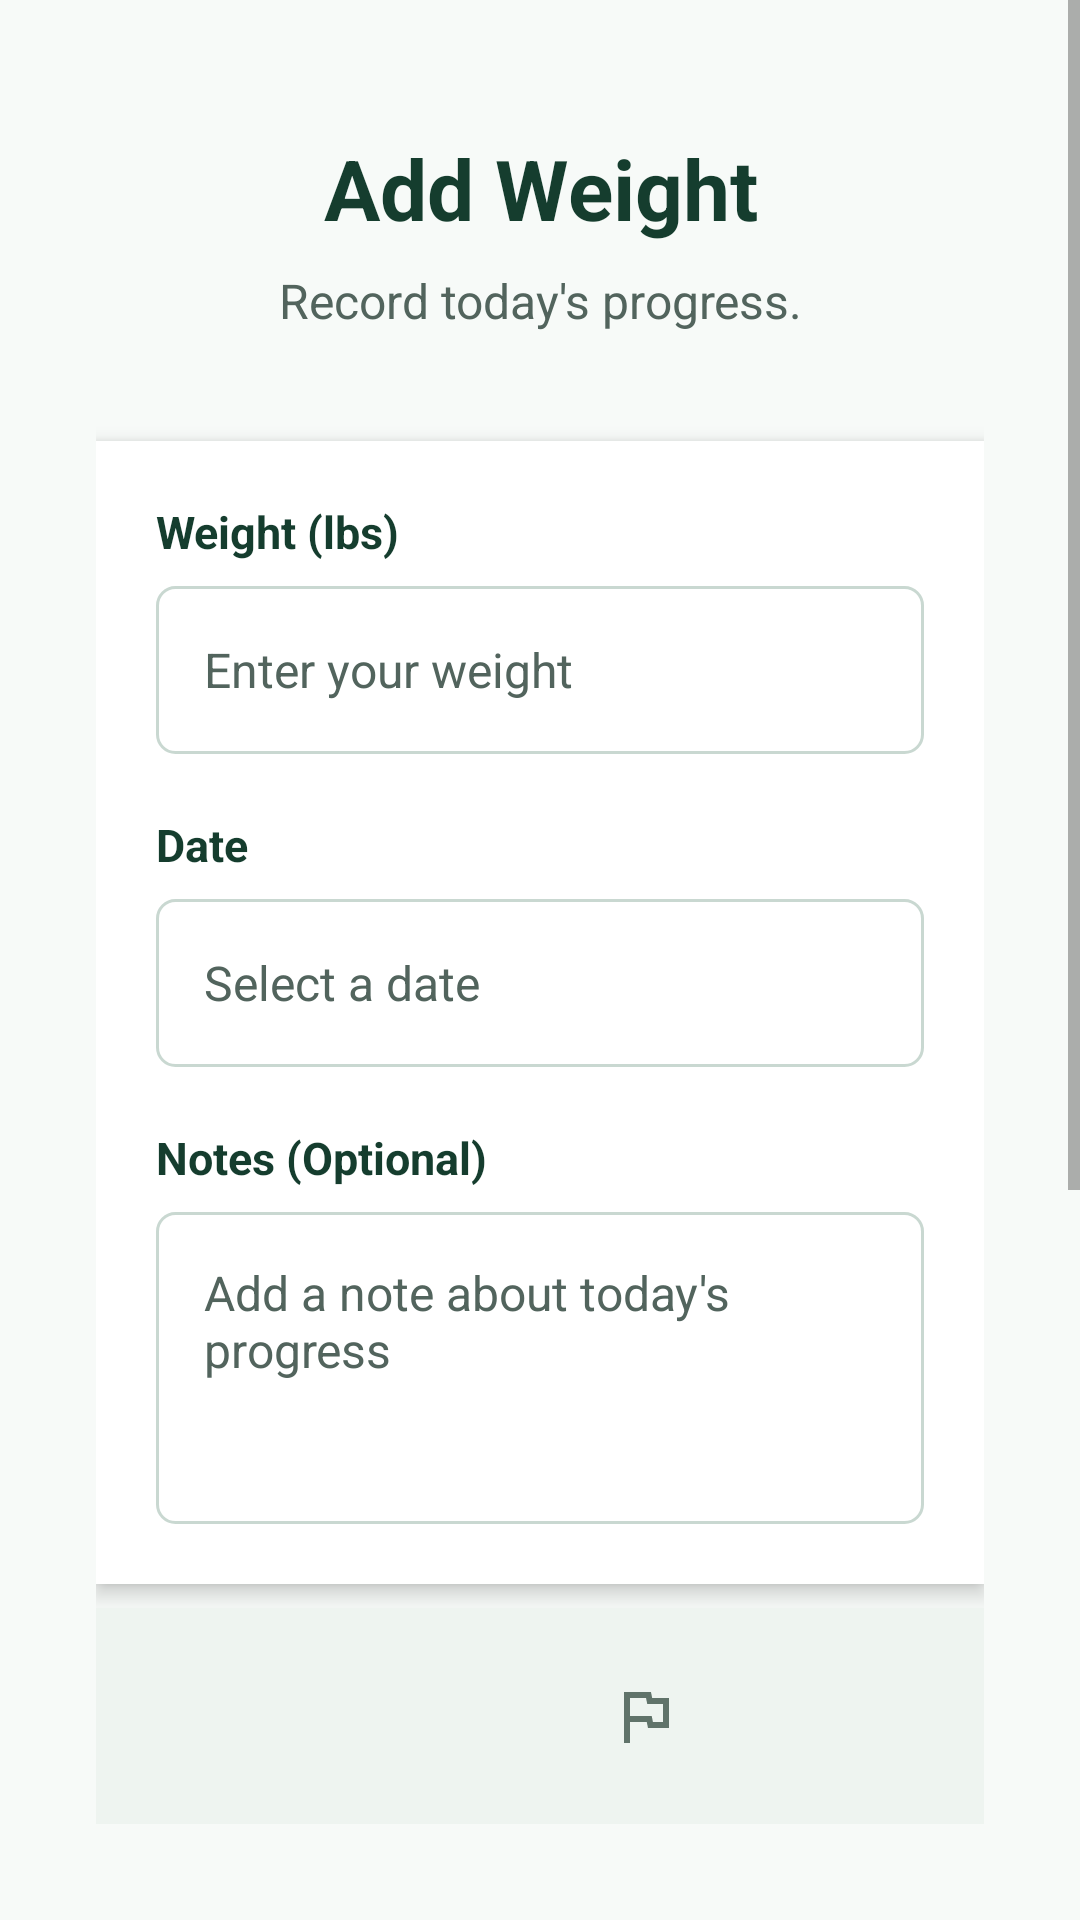

Point at icon controls on the screen. Image size 1080 x 1920, points as (x,y).
Goals: (646,1717)
